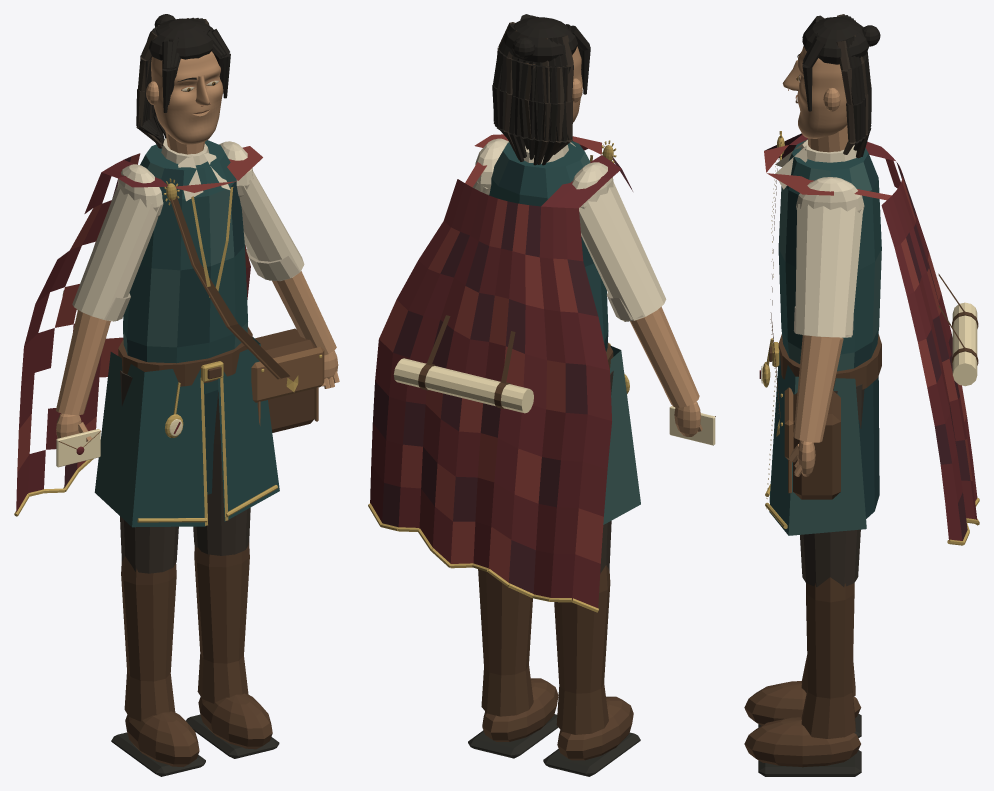
File: human-courier.glb
3 renders of one model, left to right at view 1: azimuth 30°, elevation 25°; view 2: azimuth 150°, elevation 25°; view 3: azimuth 270°, elevation 25°, orthographic. The views are drawn at different scales.
Visible parts, largest first — view 1: Waistcoat, Split_coat_R, Cloak_folds, Boot_shaft_R, Boot_shaft_L, Split_coat_L, Linen_sleeve_R, Face, Forearm_R, Linen_sleeve_L, Trouser_thigh_L, Boot_toe_L (+15 smaller); view 2: Cloak_folds, Boot_shaft_R, Boot_shaft_L, Linen_sleeve_R, Waistcoat, Split_coat_R, Map_roll, Forearm_R, Boot_toe_R, Boot_toe_L, Hair_crown, Boot_sole_R (+5 smaller); view 3: Cloak_folds, Waistcoat, Linen_sleeve_L, Boot_shaft_L, Split_coat_L, Boot_toe_L, Forearm_L, Trouser_thigh_L, Messenger_satchel, Face, Back_coat, Boot_toe_R (+9 smaller).
Part boxes in pixels (bbox=[...]): Waistcoat: bbox=[123, 140, 247, 393]; Split_coat_R: bbox=[94, 352, 205, 527]; Cloak_folds: bbox=[16, 146, 262, 512]; Boot_shaft_R: bbox=[121, 556, 176, 721]; Boot_shaft_L: bbox=[194, 542, 249, 703]; Split_coat_L: bbox=[218, 337, 279, 521]; Linen_sleeve_R: bbox=[72, 185, 160, 321]; Face: bbox=[151, 51, 223, 144]; Forearm_R: bbox=[56, 310, 110, 415]; Linen_sleeve_L: bbox=[239, 171, 304, 281]; Trouser_thigh_L: bbox=[193, 392, 250, 555]; Boot_toe_L: bbox=[198, 693, 272, 749]; Cloak_folds: bbox=[370, 134, 632, 607]; Boot_shaft_R: bbox=[554, 565, 610, 734]; Boot_shaft_L: bbox=[478, 569, 533, 716]; Linen_sleeve_R: bbox=[579, 181, 666, 321]; Waistcoat: bbox=[489, 141, 608, 351]; Split_coat_R: bbox=[603, 345, 640, 524]; Map_roll: bbox=[393, 358, 533, 413]; Forearm_R: bbox=[630, 306, 699, 407]; Boot_toe_R: bbox=[557, 696, 633, 760]; Boot_toe_L: bbox=[482, 678, 558, 741]; Hair_crown: bbox=[503, 17, 577, 62]; Boot_sole_R: bbox=[543, 732, 640, 776]; Cloak_folds: bbox=[764, 133, 977, 541]; Waistcoat: bbox=[778, 139, 881, 371]; Linen_sleeve_L: bbox=[795, 204, 863, 337]; Boot_shaft_L: bbox=[801, 577, 855, 738]; Split_coat_L: bbox=[769, 351, 866, 535]; Boot_toe_L: bbox=[744, 717, 860, 767]; Forearm_L: bbox=[793, 335, 843, 442]; Trouser_thigh_L: bbox=[800, 384, 864, 587]; Messenger_satchel: bbox=[793, 390, 840, 499]; Face: bbox=[797, 46, 847, 138]; Back_coat: bbox=[858, 376, 879, 518]; Boot_toe_R: bbox=[744, 681, 861, 725].
Bounding box in the file's own units: 0.7395 × 1.75 × 0.5149.
